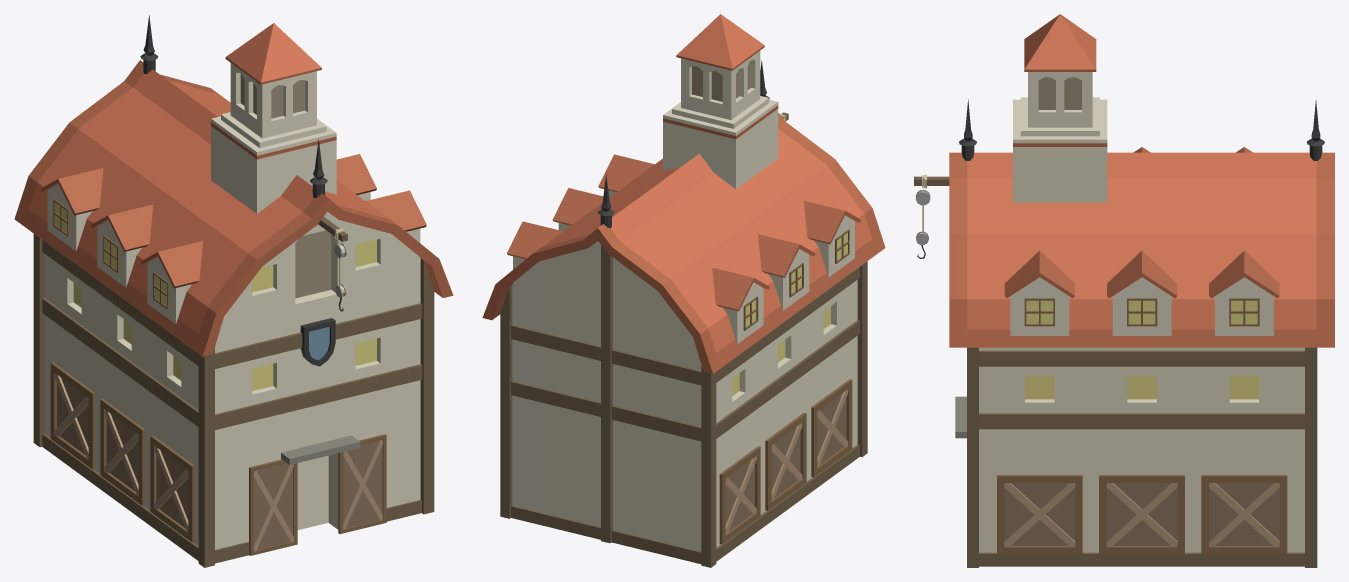
File: House_9.fbx
3 renders of one model, left to right at view 1: azimuth 30°, elevation 25°; view 2: azimuth 150°, elevation 25°; view 3: azimuth 270°, elevation 25°, orthographic. The views are drawn at different scales.
Visible parts, largest first — view 1: House_9; view 2: House_9; view 3: House_9.
Part boxes in pixels (x1,y1,x2,y2): House_9: (14, 15, 453, 567); House_9: (482, 14, 885, 567); House_9: (914, 14, 1334, 567).
Size of the model in its own units: 102 by 187 by 144.
1 material, 1 textured.
